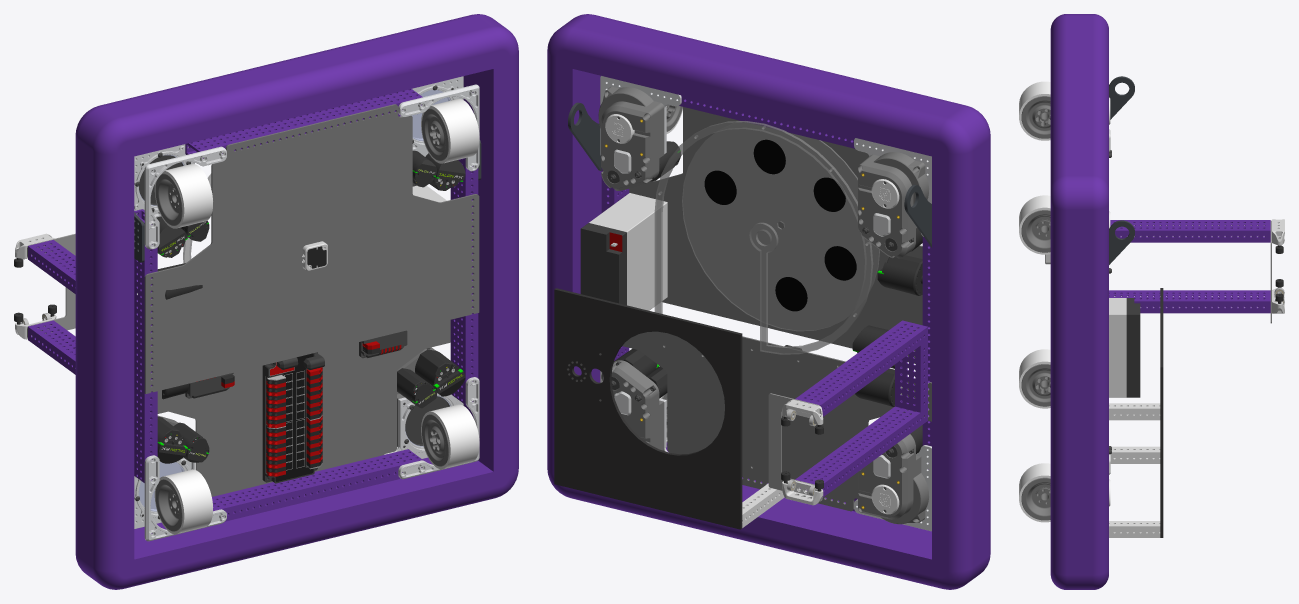
The picture shows the model from 3 angles, left to right: view 1: azimuth 30°, elevation 25°; view 2: azimuth 150°, elevation 25°; view 3: azimuth 270°, elevation 25°; orthographic projection. The views are drawn at different scales.
Visible parts, largest first — view 1: 0100 - Bumpers, 0102 - Bellypan (×2), Part 2 (×4), 0100 - Perfil 2x1 17.5" (×2), Simplified PDP 2.0, 0100 - Perfil 2x1 19.5" (×2), Part 3 (×4), Kraken X60 Brushless Motor (×4), Part 1 (×3), Part 7 (×2), Part 10 (×2), Kraken X44 Brushless Motor (×3) (+2 smaller); view 2: 0100 - Bumpers, 0102 - Bellypan (×2), 01-Poly Giratorio, 0313 - Base Turret, Part 3 (×5), Part 1 (×4), Robot Battery, 01 - Poly Caracol Arriba, Kraken X60 Brushless Motor (×3), 04 - Placa Support (×2), 0100 - Perfil 2x1 17.5", 0100 - Perfil 2x1 19.5" (×2) (+6 smaller); view 3: 0100 - Bumpers, Part 1 (×2), Part 2 (×4), Robot Battery, 1" x 1" x 0.0625" Aluminum Box Tube (6" L, Full Pattern, 0.5 (×2), 04 - Placa Support (×2), 0313 - Base Turret, 1" x 1" x 0.0625" Aluminum Box Tube (5.5" L, Full Pattern, 0.
Boxes of the visible parts, x1,y1,x2,y2 form: 0100 - Bumpers: (75,14,518,589); 0102 - Bellypan (×2): (144,104,479,496); Part 2 (×4): (154,99,479,534); 0100 - Perfil 2x1 17.5" (×2): (185,89,422,521); Simplified PDP 2.0: (262,352,324,483); 0100 - Perfil 2x1 19.5" (×2): (134,158,478,482); Part 3 (×4): (134,76,463,528); Kraken X60 Brushless Motor (×4): (156,153,465,463); Part 1 (×3): (27,233,75,374); Part 7 (×2): (144,146,479,479); Part 10 (×2): (144,84,479,541); Kraken X44 Brushless Motor (×3): (173,150,436,462); 0100 - Bumpers: (547,14,990,589); 0102 - Bellypan (×2): (622,107,931,511); 01-Poly Giratorio: (682,122,879,331); 0313 - Base Turret: (554,288,742,529); Part 3 (×5): (598,76,931,531); Part 1 (×4): (768,320,927,497); Robot Battery: (580,193,667,310); 01 - Poly Caracol Arriba: (654,121,873,354); Kraken X60 Brushless Motor (×3): (614,255,922,406); 04 - Placa Support (×2): (568,102,931,247); 0100 - Perfil 2x1 17.5": (679,95,857,148); 0100 - Perfil 2x1 19.5" (×2): (601,168,931,469); 0100 - Bumpers: (1050,14,1108,589); Part 1 (×2): (1109,220,1270,313); Part 2 (×4): (1019,81,1050,522); Robot Battery: (1109,298,1140,397); 1" x 1" x 0.0625" Aluminum Box Tube (6" L, Full Pattern, 0.5 (×2): (1109,403,1160,463); 04 - Placa Support (×2): (1109,76,1134,264); 0313 - Base Turret: (1160,288,1163,537); 1" x 1" x 0.0625" Aluminum Box Tube (5.5" L, Full Pattern, 0: (1109,521,1160,537).
Bounding box in the file's own units: 0.8382 × 0.889 × 0.5199.
